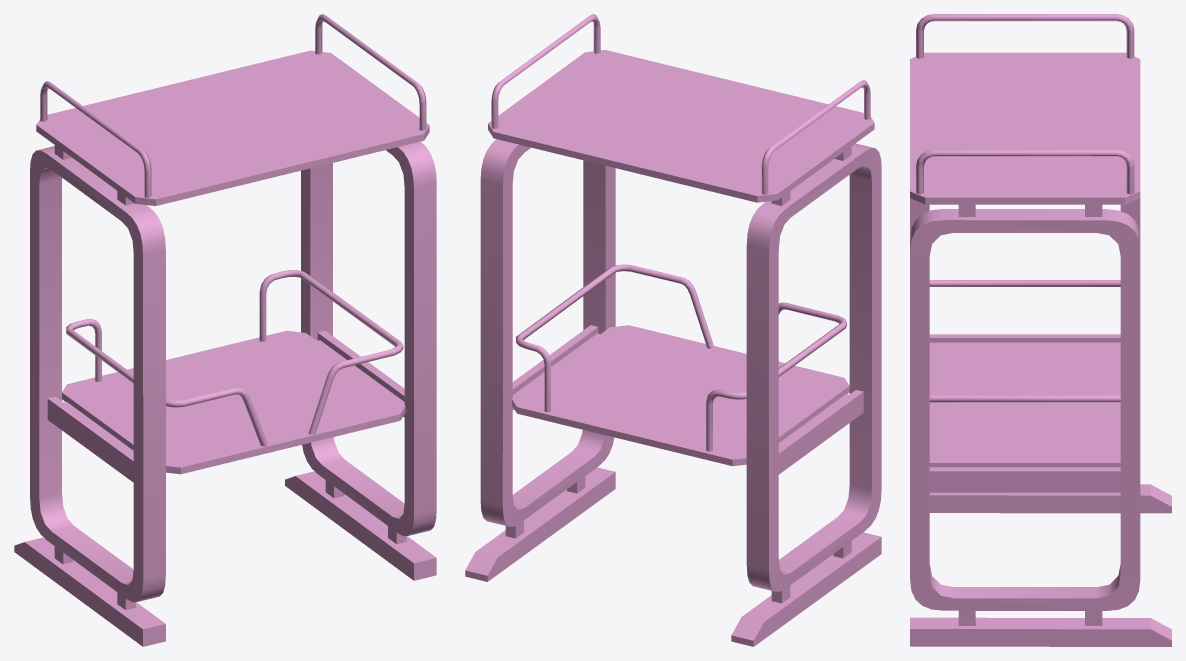
Rendered from Mod_rack_Game.FBX.
3 views of the same model, side by side, from view 1: azimuth 30°, elevation 25°; view 2: azimuth 150°, elevation 25°; view 3: azimuth 270°, elevation 25° (orthographic). The views are drawn at different scales.
Parts seen in each view (by area): view 1: Object34554, Object34553, Object34551, Object34552; view 2: Object34554, Object34553, Object34551, Object34552; view 3: Object34554, Object34552, Object34551, Object34553.
Part boxes in pixels (x1,y1,x2,y2): Object34554: (36,14,429,205); Object34553: (14,145,165,646); Object34551: (47,270,405,482); Object34552: (285,141,436,580); Object34554: (488,14,874,202); Object34553: (731,143,881,646); Object34551: (512,264,863,474); Object34552: (465,139,615,581); Object34554: (910,14,1140,204); Object34552: (910,204,1171,646); Object34551: (929,280,1120,492); Object34553: (910,198,1171,513).
Size of the model in its own units: 4.88 by 7.71 by 3.72.
